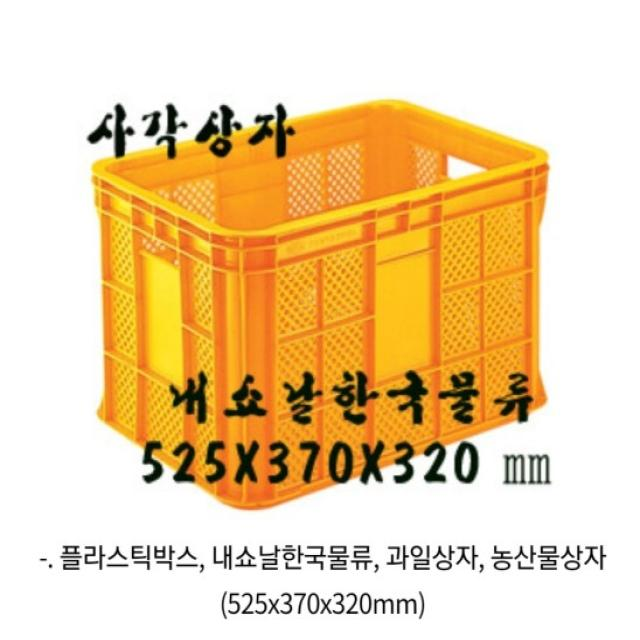basket: (90, 96, 561, 514)
